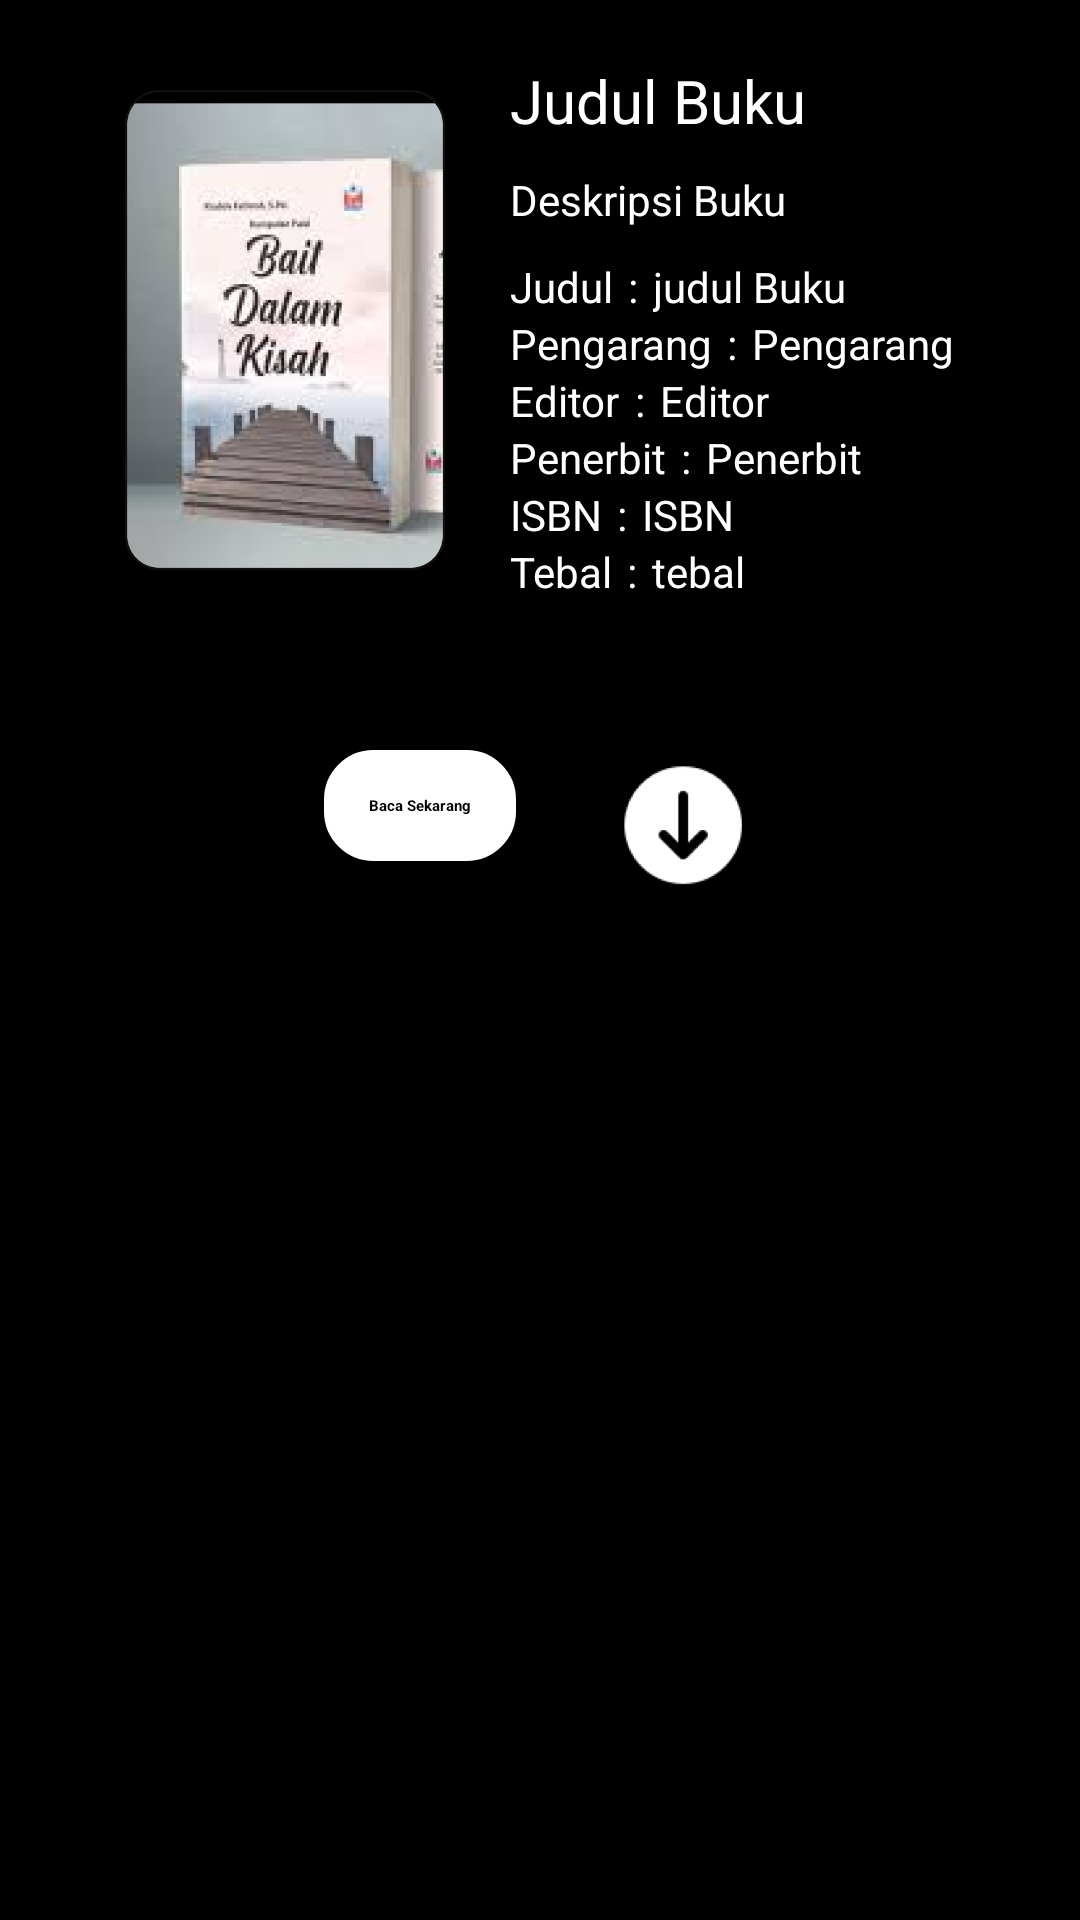

Where to tap for icons on this 1080px×1920px app screen, as [x,y]:
download: [683,825]
